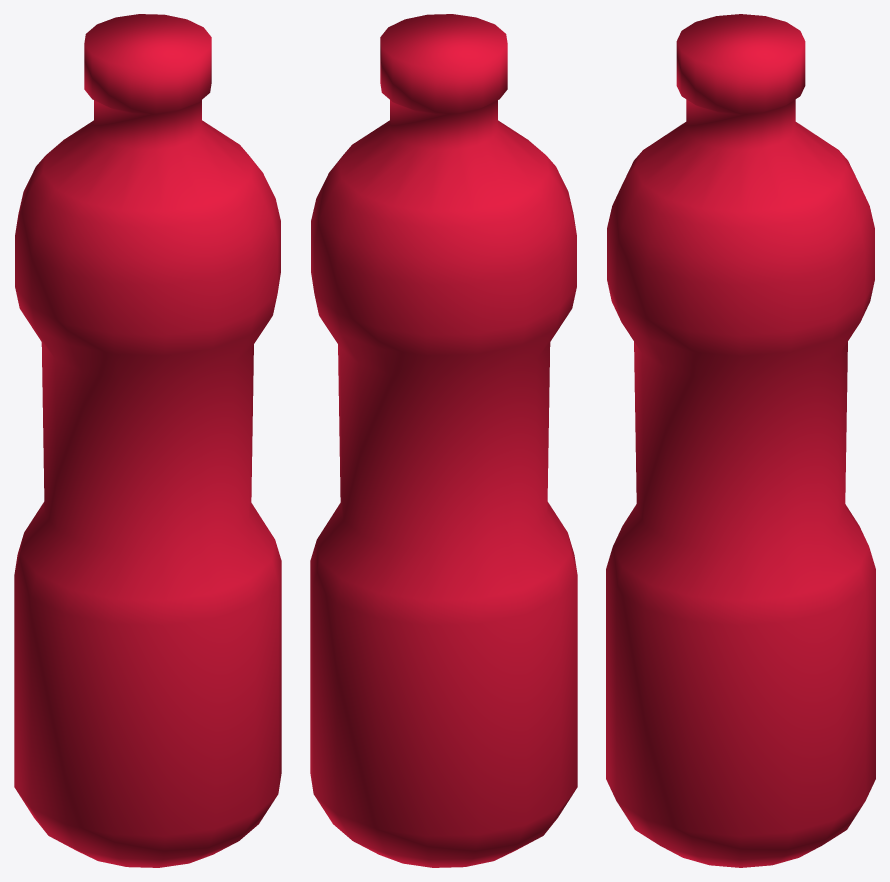
The model's file is te_pesca_mini.fbx.
3 renders of one model, left to right at view 1: azimuth 30°, elevation 25°; view 2: azimuth 150°, elevation 25°; view 3: azimuth 270°, elevation 25°, orthographic.
Visible parts, largest first — view 1: teverde.001; view 2: teverde.001; view 3: teverde.001.
Part boxes in pixels (x1,y1,x2,y2): teverde.001: (14, 14, 281, 867); teverde.001: (310, 14, 577, 867); teverde.001: (606, 14, 875, 867).
Size of the model in its own units: 47.5 by 154 by 47.5.
